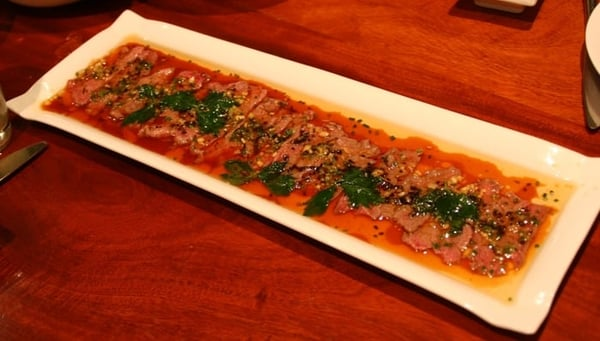sandwich: (0, 141, 49, 189)
